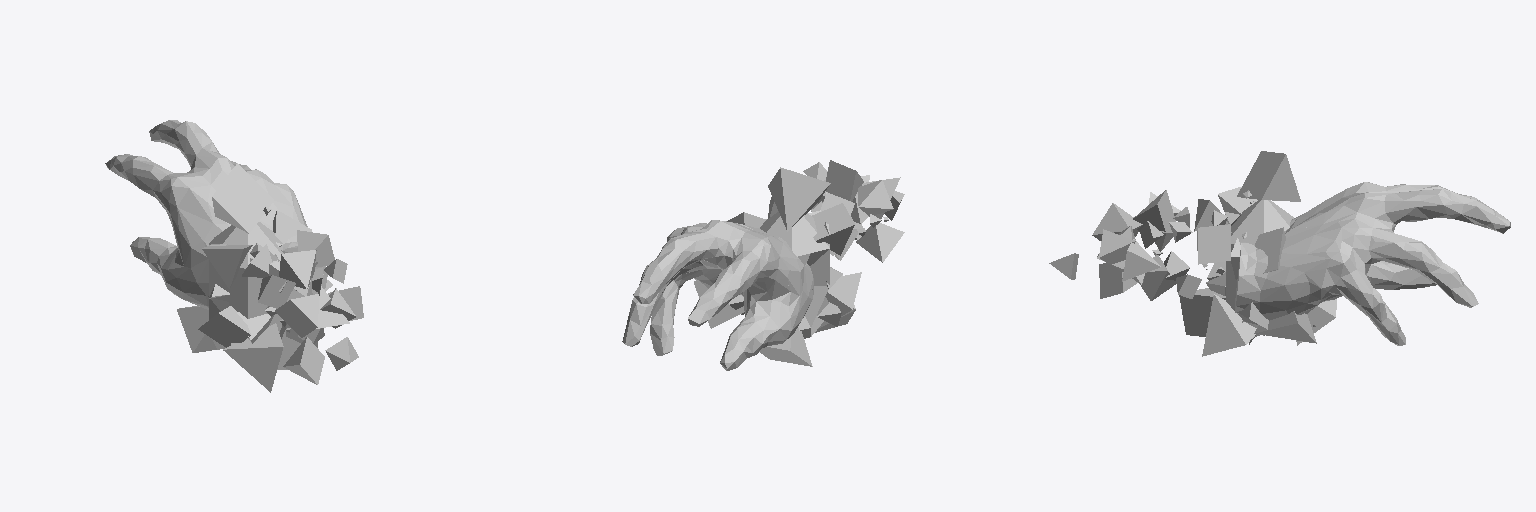
The picture shows the model from 3 angles: view 1: azimuth 30°, elevation 25°; view 2: azimuth 150°, elevation 25°; view 3: azimuth 270°, elevation 25°; orthographic projection.
Parts seen in each view (by area): view 1: model3:Cloner_2; view 2: model3:Cloner_2; view 3: model3:Cloner_2.
Boxes of the visible parts, x1,y1,x2,y2 form: model3:Cloner_2: [105, 120, 363, 392]; model3:Cloner_2: [622, 160, 904, 370]; model3:Cloner_2: [1049, 151, 1510, 356].
Bounding box in the file's own units: 152 × 192 × 426.